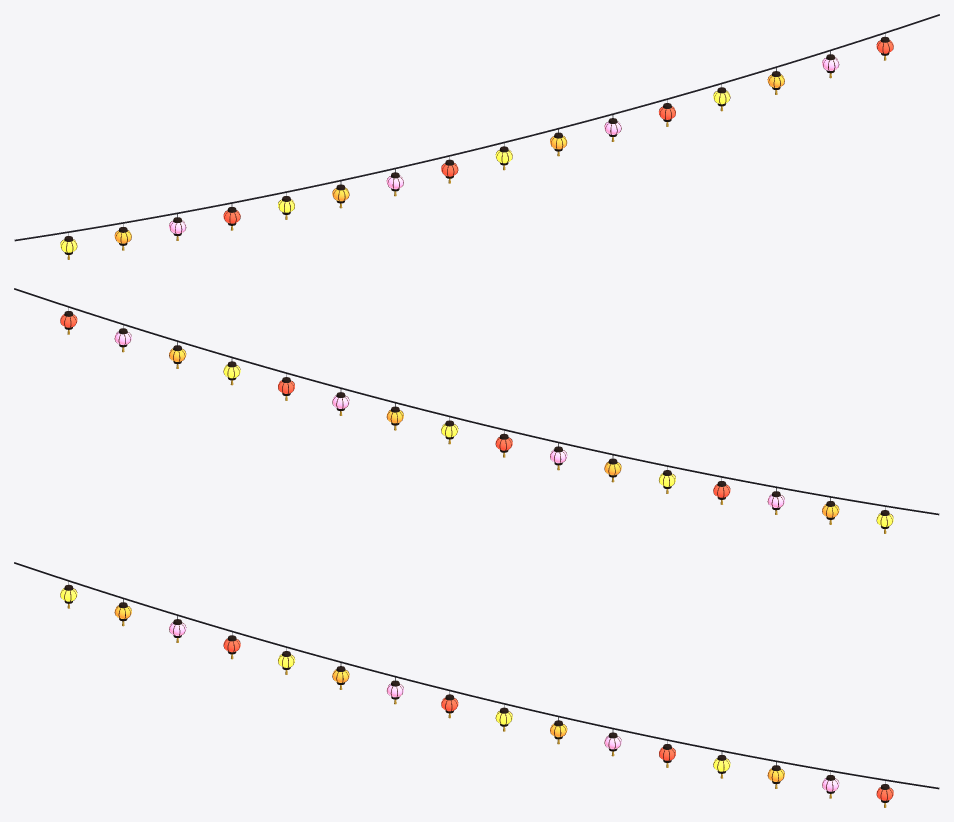
File: lantern_string_long.glb
3 renders of one model, top to bottom at view 1: azimuth 30°, elevation 25°; view 2: azimuth 150°, elevation 25°; view 3: azimuth 330°, elevation 25°, orthographic.
Bounding box in the file's own units: 14.4 × 0.7373 × 0.2412.
